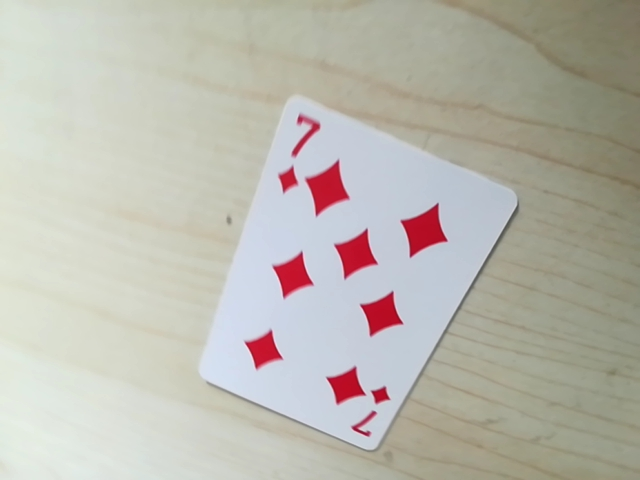fk 7: (338, 388, 388, 448), (284, 100, 332, 156)
